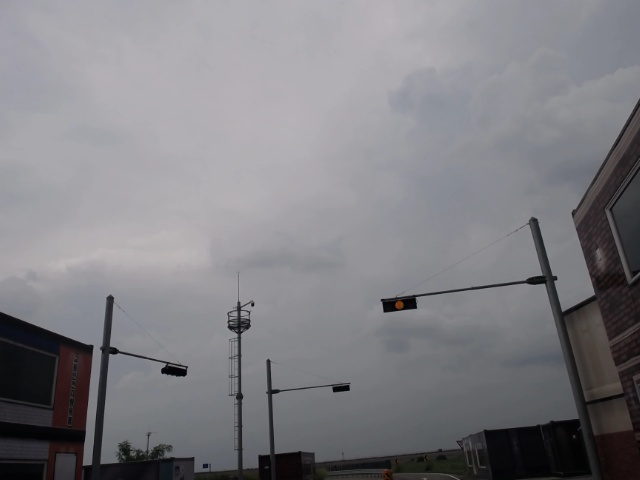orange_3: (383, 296, 418, 314)
